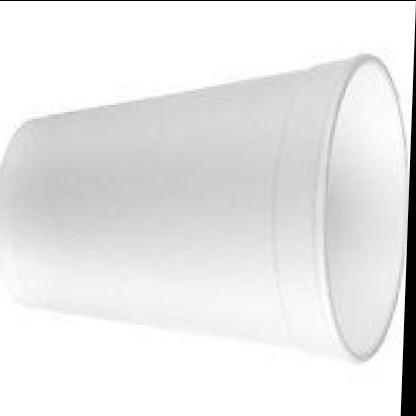trash: (0, 55, 407, 358)
